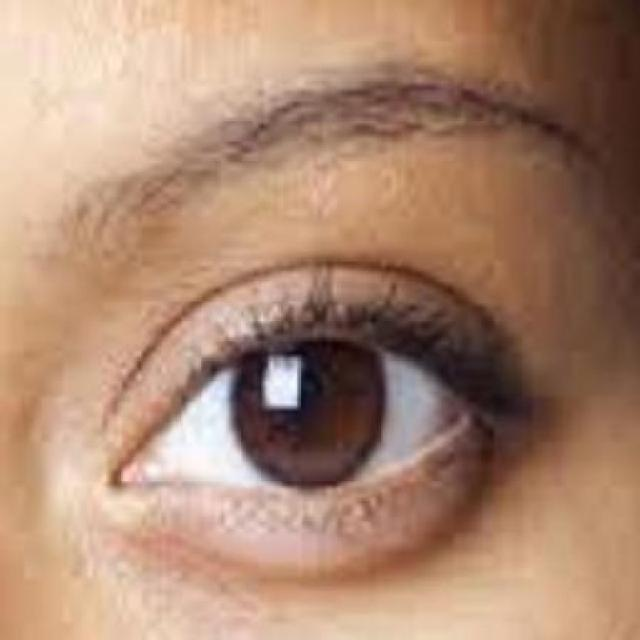awake: (120, 320, 474, 502)
